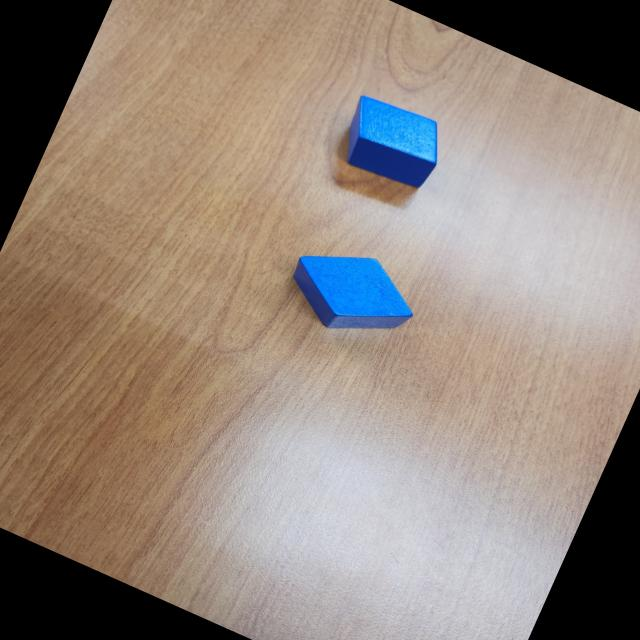blue: (278, 231, 429, 359), (332, 88, 454, 198)
